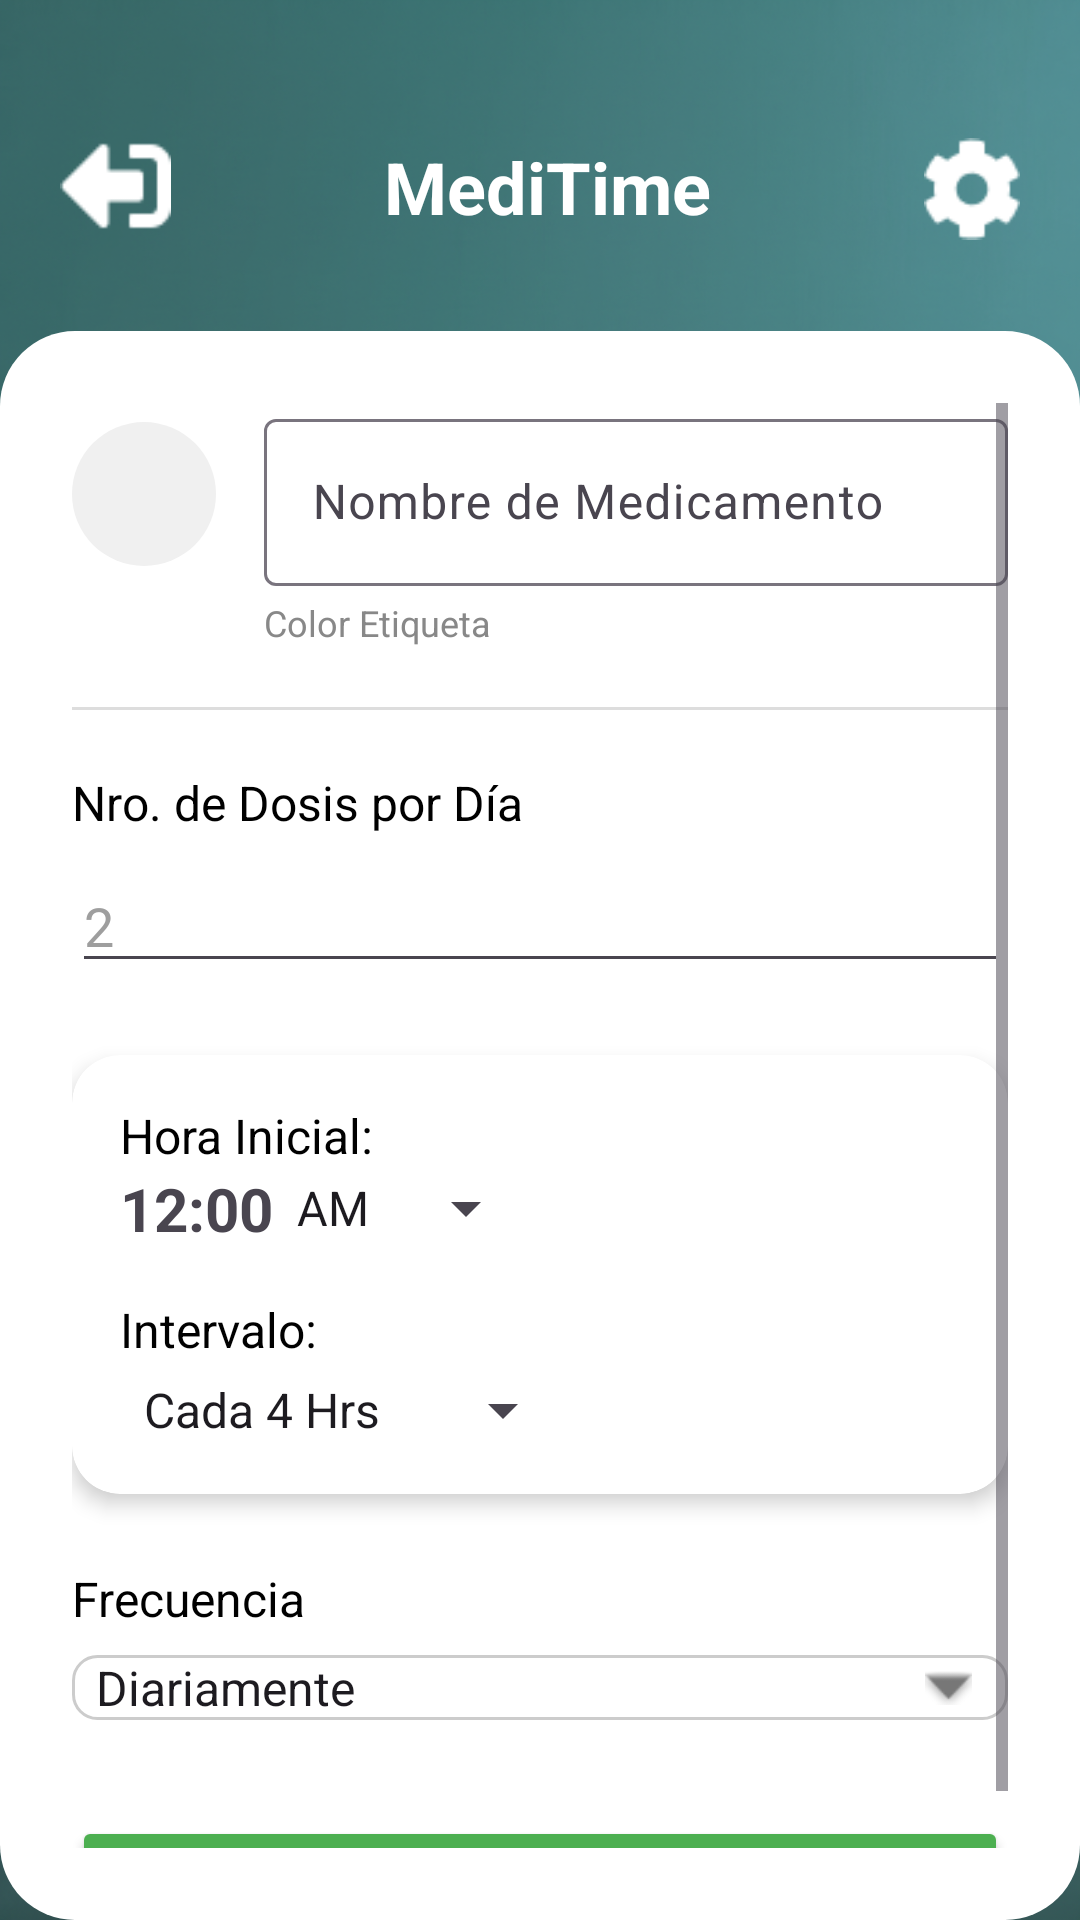

Locate icon controls on the screen. Image size 1080x1920, boxes as bbox(x1, y1, x2, y2).
Ajustes y configuración: bbox(924, 138, 1020, 240)
